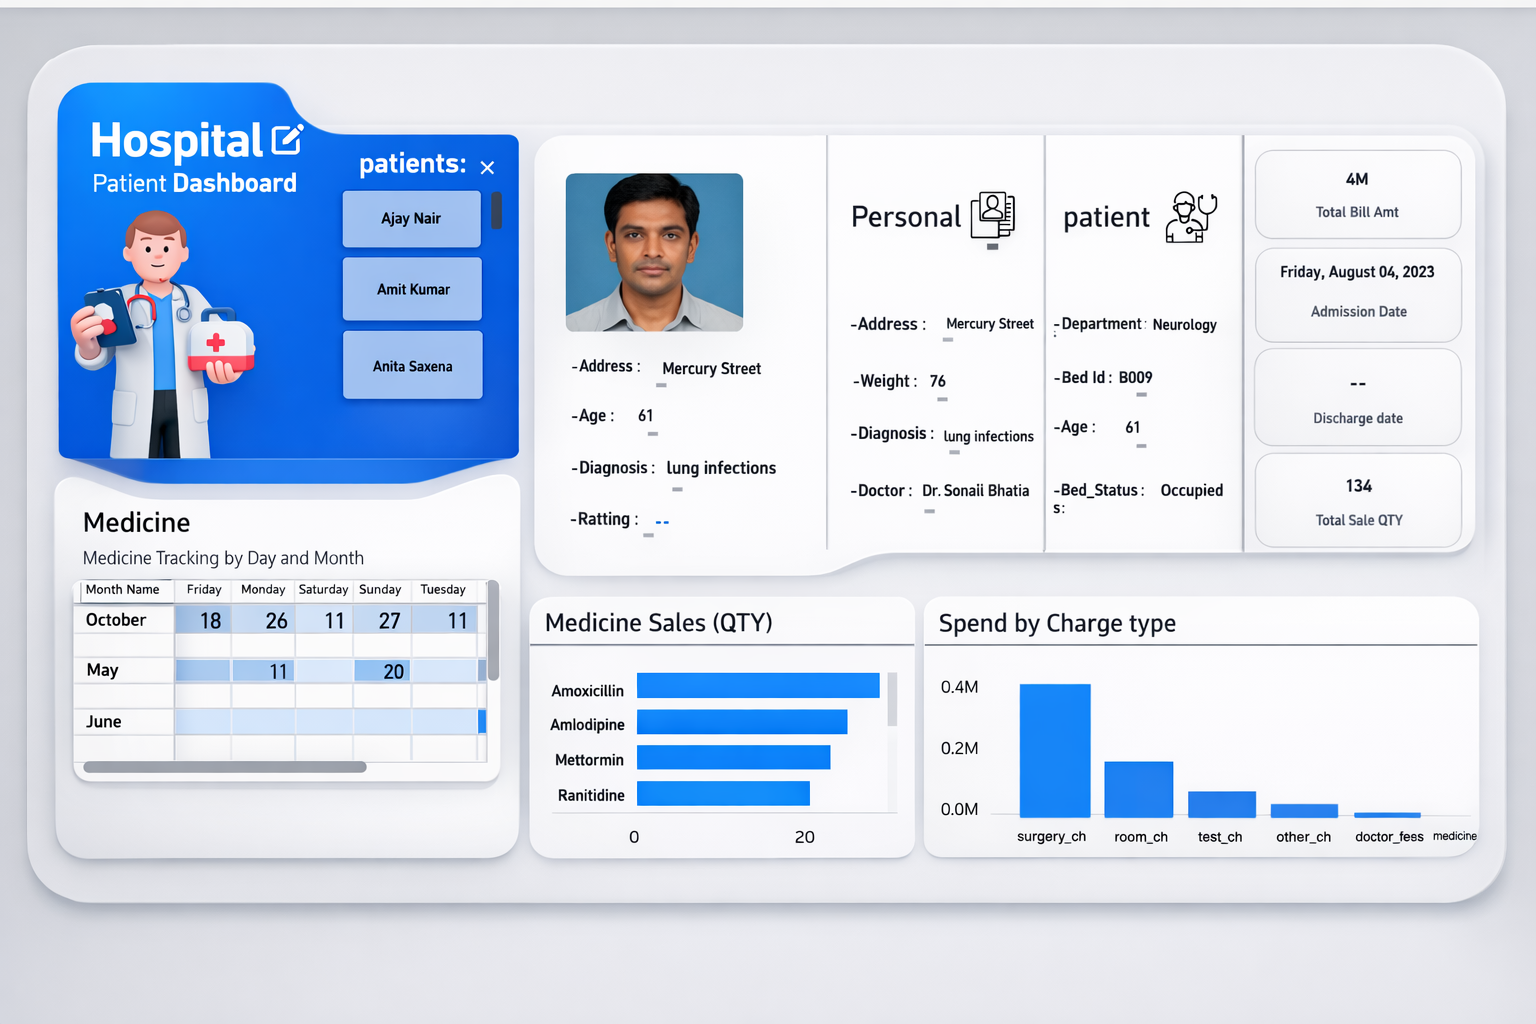

Layout of this report page (visuals, bound fields, positions):
{"tool":"powerbi","page":{"name":"overview","canvas":[1280,720],"ordinal":1},"visuals":[{"type":"image","box":[27,20.9,186.5,466.3],"z":0},{"type":"textbox","box":[78.5,92,214.7,96.9],"z":1000},{"type":"image","box":[202.5,105.5,88.3,24.5],"z":2000},{"type":"pivotTable","title":"Medicine  ","fields":{"Values":["Sum(Medicine_patient1.qty)"],"Rows":["Calendar_date.Month Name"],"Columns":["Calendar_date.Day Name"]},"box":[78.5,397.5,336.2,234.4],"z":3000},{"type":"clusteredBarChart","title":"Medicine Sales (QTY)","fields":{"Y":["Sum(Medicine_patient1.qty)"],"Category":["Medical stock.name"]},"box":[445.4,471.2,300.6,192.6],"z":4000},{"type":"clusteredColumnChart","title":" Spend by Charge type ","fields":{"Category":["Hospital Bills.charge_type"],"Y":["Sum(Hospital Bills.Amount)"]},"box":[753.4,471.2,461.4,192.6],"z":5000},{"type":"cardVisual","fields":{"Data":["Table Dax.Total_Med_Sale_QTY"]},"box":[1033.1,344.8,166.9,71.2],"z":6000},{"type":"cardVisual","fields":{"Data":["Table Dax.Total_Bill_Amt"]},"box":[1033.1,116.6,165.6,63.8],"z":7000},{"type":"cardVisual","fields":{"Data":["Min(Appointment.appointment_date)"]},"box":[1031.9,184.1,166.9,76.1],"z":8000},{"type":"cardVisual","fields":{"Data":["Min(patient.discharge_date)"]},"box":[1031.9,265,166.9,73.6],"z":9000},{"type":"cardVisual","fields":{"Data":["Min(patient.Img)"]},"box":[465,121.2,175,137.5],"z":10000},{"type":"cardVisual","fields":{"Data":["Min(patient.name)"]},"box":[550,246.2,161.2,40],"z":11000},{"type":"textbox","title":"-Doctor :","box":[487.5,291.2,82.5,27.5],"z":12000},{"type":"textbox","title":"-Age :","box":[487.5,323.8,82.5,27.5],"z":13000},{"type":"textbox","title":"-Diagnosis :","box":[487.5,356.2,110,31.2],"z":14000},{"type":"cardVisual","fields":{"Data":["Min(patient.Doctor.name)"]},"box":[528.8,286.2,143.8,37.5],"z":15000},{"type":"cardVisual","fields":{"Data":["Sum(patient.age)"]},"box":[507.5,318.8,125,37.5],"z":16000},{"type":"cardVisual","fields":{"Data":["Min(Appointment.diagnosis)"]},"box":[550,351.2,130,36.2],"z":17000},{"type":"textbox","title":"-patient :","box":[487.5,258.8,82.5,27.5],"z":18000},{"type":"textbox","title":"-Ratting :","box":[487.5,391.2,82.5,27.5],"z":19000},{"type":"cardVisual","fields":{"Data":["Appointment.Sum of rating star rating"]},"box":[481.4,388.6,182.9,35.7],"z":20000},{"type":"cardVisual","fields":{"Data":["Min(patient.feedback)"]},"box":[441.4,424.3,262.9,28.6],"z":21000},{"type":"shape","box":[679.8,105.5,11,331.3],"z":22000},{"type":"shape","box":[857.5,105,16.2,322.5],"z":23000},{"type":"textbox","title":"Personal","box":[705,162.5,128.8,43.8],"z":24000},{"type":"textbox","title":"patient ","box":[873.8,162.5,121.2,35],"z":25000},{"type":"textbox","title":"-Department :","box":[867.5,245,95,27.5],"z":26000},{"type":"textbox","title":"-Age  :","box":[867.5,323.8,82.5,27.5],"z":27000},{"type":"textbox","title":"-Bed Id :","box":[867.5,286.2,82.5,27.5],"z":28000},{"type":"textbox","title":"-Bed_status  :","box":[867.5,366.2,82.5,27.5],"z":29000},{"type":"textbox","title":"-Weight :","box":[705,291.2,82.5,27.5],"z":30000},{"type":"textbox","title":"-Diagnosis :","box":[705,330,95,27.5],"z":31000},{"type":"textbox","title":"-Doctor :","box":[705,372.5,82.5,27.5],"z":32000},{"type":"textbox","title":"-Address :","box":[705,246.2,95,26.2],"z":33000},{"type":"image","box":[935,147.5,101.2,41.2],"z":34000},{"type":"image","box":[780,152.5,87.5,37.5],"z":35000},{"type":"shape","box":[1016,104.3,17.2,320.2],"z":36000},{"type":"cardVisual","fields":{"Data":["Min(patient.address)"]},"box":[770,233.8,161.2,40],"z":37000},{"type":"cardVisual","fields":{"Data":["Sum(patient.age)"]},"box":[915,310,161.2,40],"z":38000},{"type":"cardVisual","fields":{"Data":["Min(patient.Beds.bed_id)"]},"box":[908.6,272.9,160,40],"z":39000},{"type":"cardVisual","fields":{"Data":["Min(patient.Department.name)"]},"box":[935.7,232.9,160,40],"z":40000},{"type":"cardVisual","fields":{"Data":["Sum(patient.weight)"]},"box":[752.5,276.2,161.2,40],"z":41000},{"type":"cardVisual","fields":{"Data":["Min(Appointment.diagnosis)"]},"box":[764.3,318.6,120,40],"z":42000},{"type":"cardVisual","fields":{"Data":["Min(patient.Doctor.name)"]},"box":[753.8,357.5,161.2,40],"z":43000},{"type":"cardVisual","fields":{"Data":["Min(patient.Beds.status)"]},"box":[947.1,354.3,160,40],"z":44000},{"type":"image","box":[381.6,123.9,39.3,17.2],"z":45000},{"type":"advancedSlicerVisual","title":"patients:","fields":{"Values":["patient.name"]},"box":[293.3,116.6,128.8,239.3],"z":46000}]}

Visuals, with their boxes on the page's 1280x720 design canvas (x1, y1, x2, y2). These are canvas units, not pixel positions in the 1536x1024 screenshot, which may show the page scaled, cropped or inside an application window:
image: 27:21:214:487
textbox: 78:92:293:189
image: 202:106:291:130
"Medicine  " pivotTable: 78:398:415:632
"Medicine Sales (QTY)" clusteredBarChart: 445:471:746:664
" Spend by Charge type " clusteredColumnChart: 753:471:1215:664
cardVisual - Table Dax.Total_Med_Sale_QTY: 1033:345:1200:416
cardVisual - Table Dax.Total_Bill_Amt: 1033:117:1199:180
cardVisual - Min(Appointment.appointment_date): 1032:184:1199:260
cardVisual - Min(patient.discharge_date): 1032:265:1199:339
cardVisual - Min(patient.Img): 465:121:640:259
cardVisual - Min(patient.name): 550:246:711:286
"-Doctor :" textbox: 488:291:570:319
"-Age :" textbox: 488:324:570:351
"-Diagnosis :" textbox: 488:356:598:387
cardVisual - Min(patient.Doctor.name): 529:286:673:324
cardVisual - Sum(patient.age): 508:319:632:356
cardVisual - Min(Appointment.diagnosis): 550:351:680:387
"-patient :" textbox: 488:259:570:286
"-Ratting :" textbox: 488:391:570:419
cardVisual - Appointment.Sum of rating star rating: 481:389:664:424
cardVisual - Min(patient.feedback): 441:424:704:453
shape: 680:106:691:437
shape: 858:105:874:428
"Personal" textbox: 705:162:834:206
"patient " textbox: 874:162:995:198
"-Department :" textbox: 868:245:962:272
"-Age  :" textbox: 868:324:950:351
"-Bed Id :" textbox: 868:286:950:314
"-Bed_status  :" textbox: 868:366:950:394
"-Weight :" textbox: 705:291:788:319
"-Diagnosis :" textbox: 705:330:800:358
"-Doctor :" textbox: 705:372:788:400
"-Address :" textbox: 705:246:800:272
image: 935:148:1036:189
image: 780:152:868:190
shape: 1016:104:1033:424
cardVisual - Min(patient.address): 770:234:931:274
cardVisual - Sum(patient.age): 915:310:1076:350
cardVisual - Min(patient.Beds.bed_id): 909:273:1069:313
cardVisual - Min(patient.Department.name): 936:233:1096:273
cardVisual - Sum(patient.weight): 752:276:914:316
cardVisual - Min(Appointment.diagnosis): 764:319:884:359
cardVisual - Min(patient.Doctor.name): 754:358:915:398
cardVisual - Min(patient.Beds.status): 947:354:1107:394
image: 382:124:421:141
"patients:" advancedSlicerVisual: 293:117:422:356
